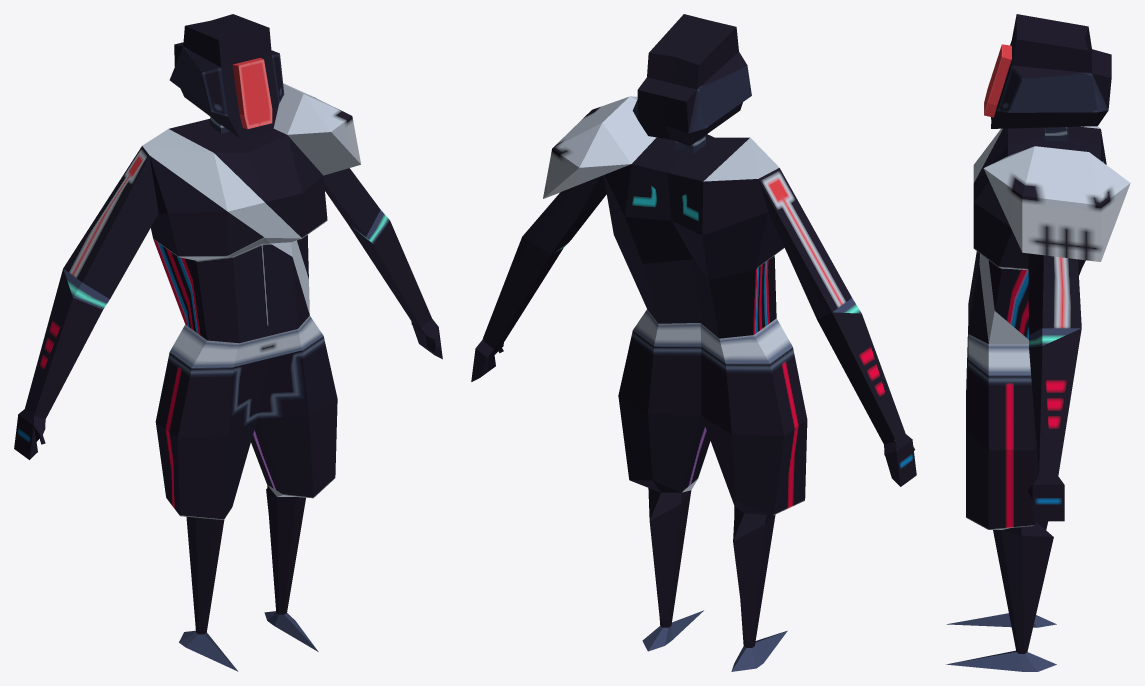
Rendered from player.dae.
The picture shows the model from 3 angles, left to right: view 1: azimuth 30°, elevation 25°; view 2: azimuth 150°, elevation 25°; view 3: azimuth 270°, elevation 25°; orthographic projection. The views are drawn at different scales.
Parts seen in each view (by area): view 1: Cylinder; view 2: Cylinder; view 3: Cylinder.
Boxes of the visible parts, x1,y1,x2,y2 form: Cylinder: (14, 14, 442, 671); Cylinder: (471, 14, 916, 671); Cylinder: (946, 14, 1130, 671).
Bounding box in the file's own units: 2.24 × 0.8497 × 3.12.
1 material, 1 textured.
